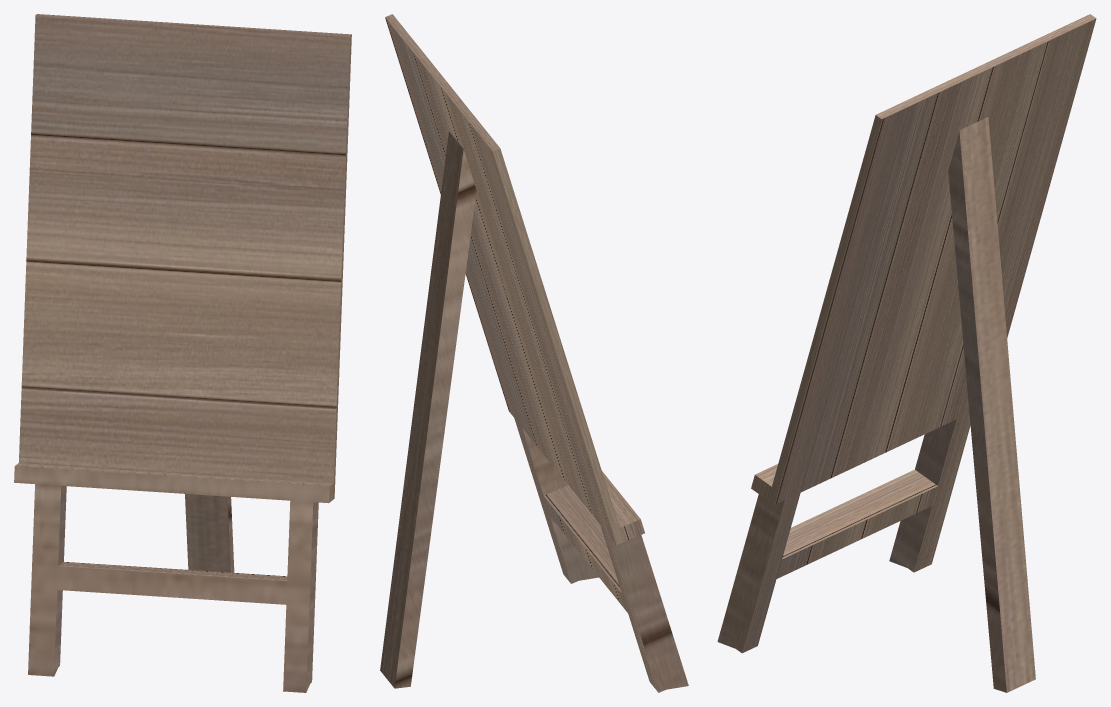
Rendered from Easel.fbx.
3 renders of one model, left to right at view 1: azimuth 30°, elevation 25°; view 2: azimuth 150°, elevation 25°; view 3: azimuth 270°, elevation 25°, orthographic. The views are drawn at different scales.
Parts seen in each view (by area): view 1: pCube83; view 2: pCube83; view 3: pCube83.
Boxes of the visible parts, x1,y1,x2,y2 form: pCube83: (14,14,351,692); pCube83: (380,14,688,692); pCube83: (717,14,1096,692).
Bounding box in the file's own units: 99.87 × 180 × 102.
